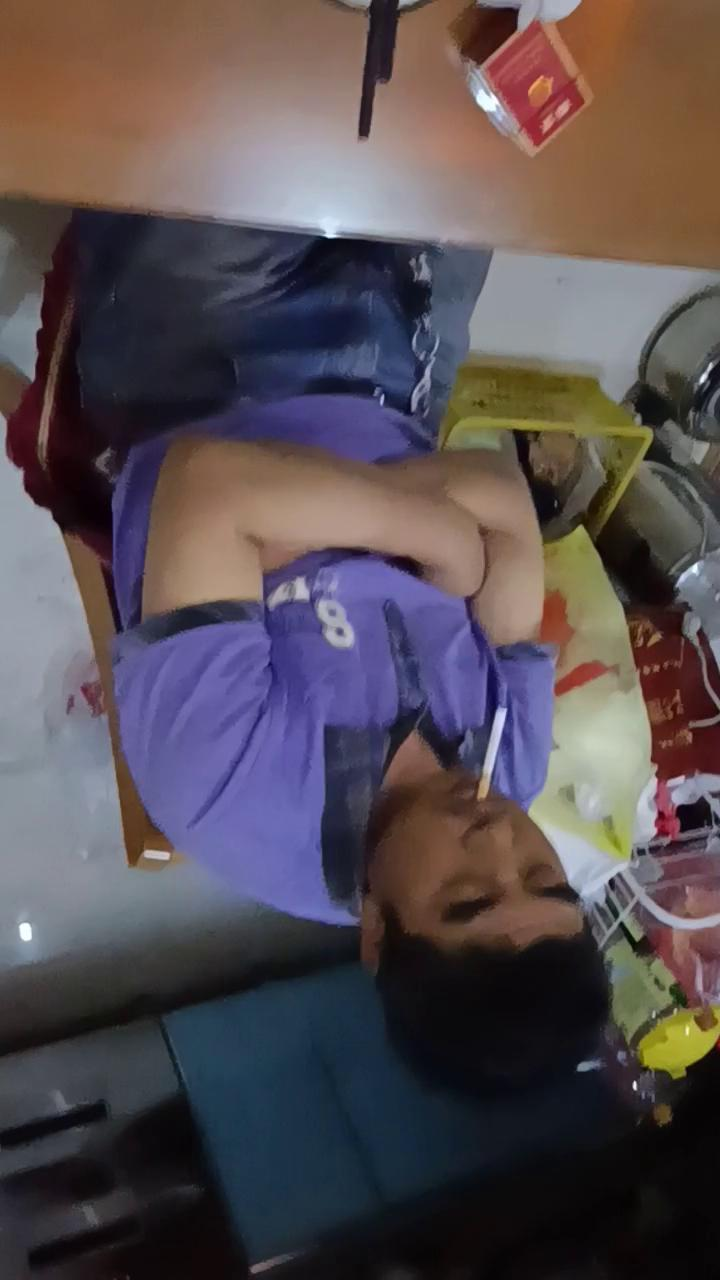smoke: (477, 707, 509, 802)
